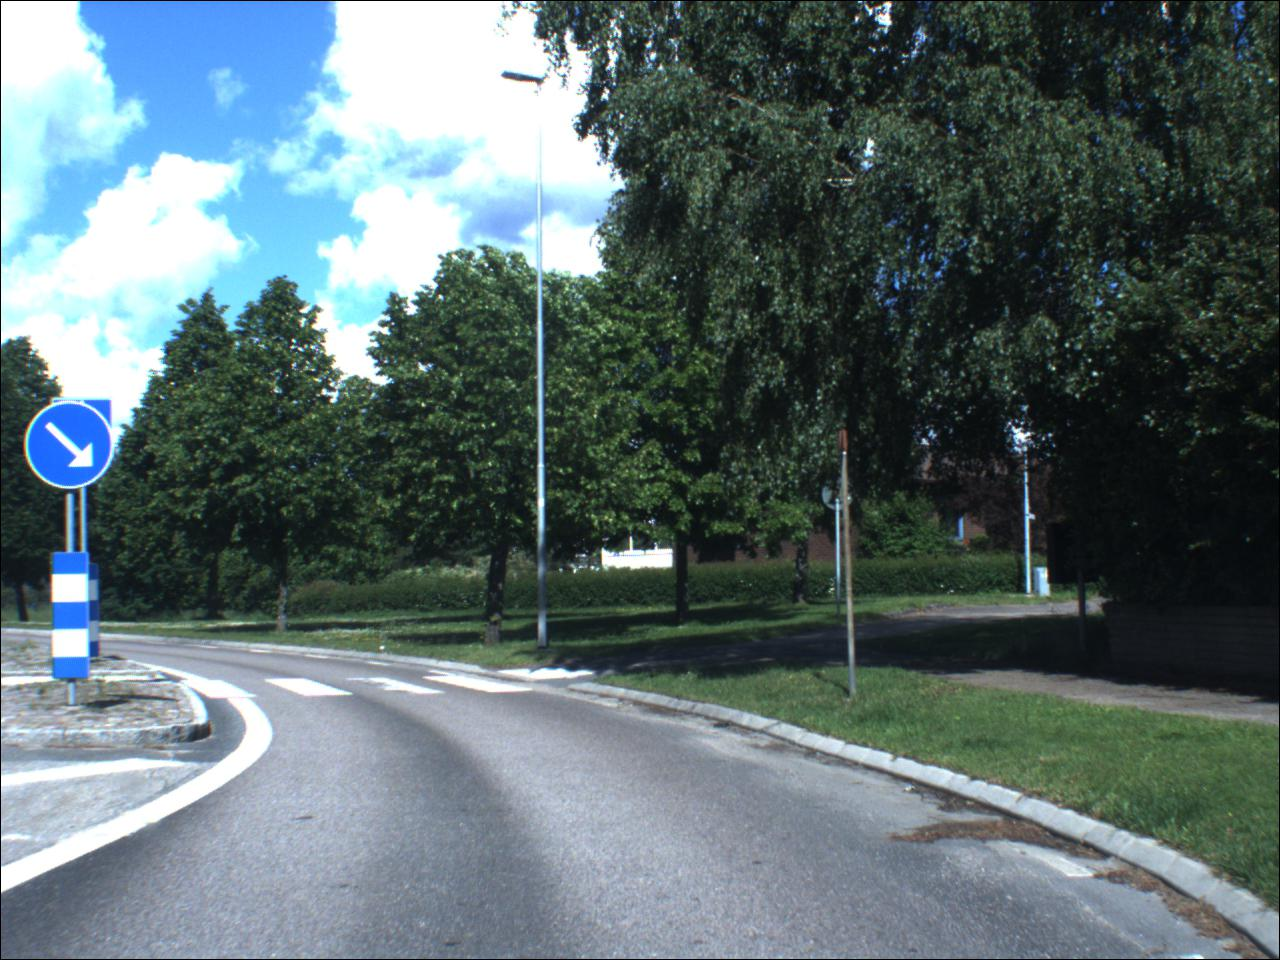PASS_RIGHT_SIDE: (21, 397, 121, 500)
PEDESTRIAN_CROSSING: (51, 396, 116, 463)
